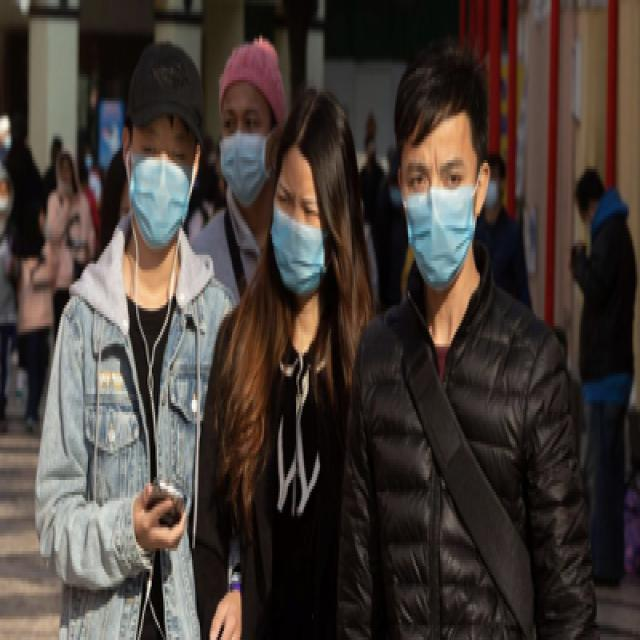mask: (402, 146, 484, 290), (128, 112, 190, 246), (270, 175, 332, 296), (220, 98, 274, 202)
